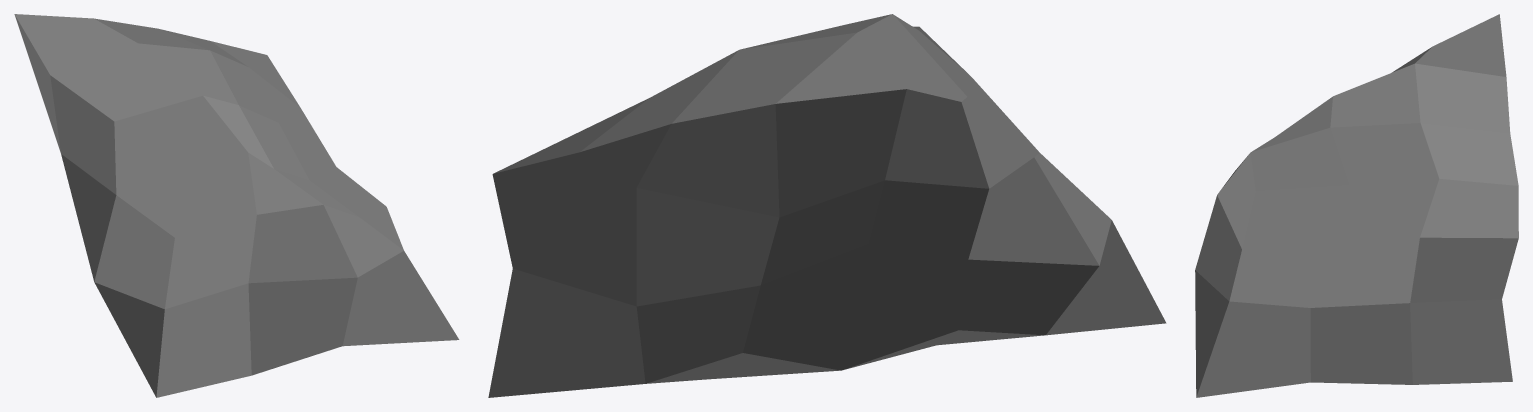
File: rock-l-blocky_lod1.glb
3 views of the same model, side by side, from view 1: azimuth 30°, elevation 25°; view 2: azimuth 150°, elevation 25°; view 3: azimuth 270°, elevation 25° (orthographic). The views are drawn at different scales.
Visible parts, largest first — view 1: rock-l-blocky; view 2: rock-l-blocky; view 3: rock-l-blocky.
Part boxes in pixels (bbox=[...]): rock-l-blocky: bbox=[14, 14, 459, 397]; rock-l-blocky: bbox=[488, 14, 1166, 397]; rock-l-blocky: bbox=[1195, 14, 1518, 397].
Bounding box in the file's own units: 3.72 × 3.2 × 3.67.
Materials: 1 (1 with a texture image).
